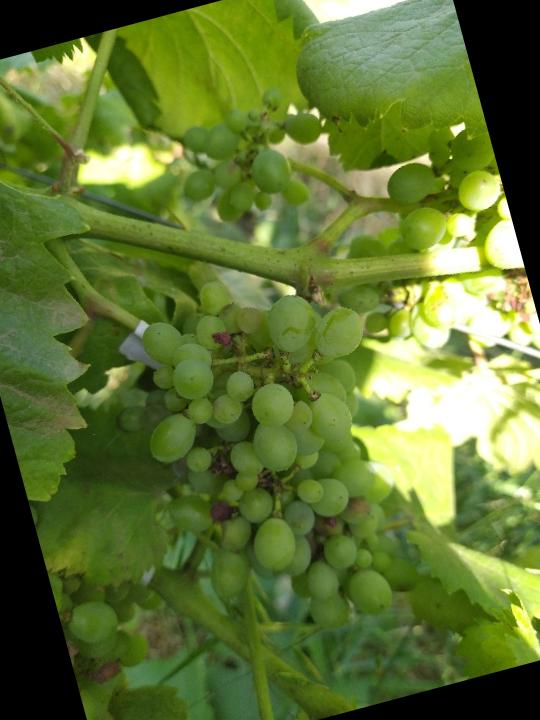grape: (85, 234, 477, 700), (164, 76, 345, 239)
